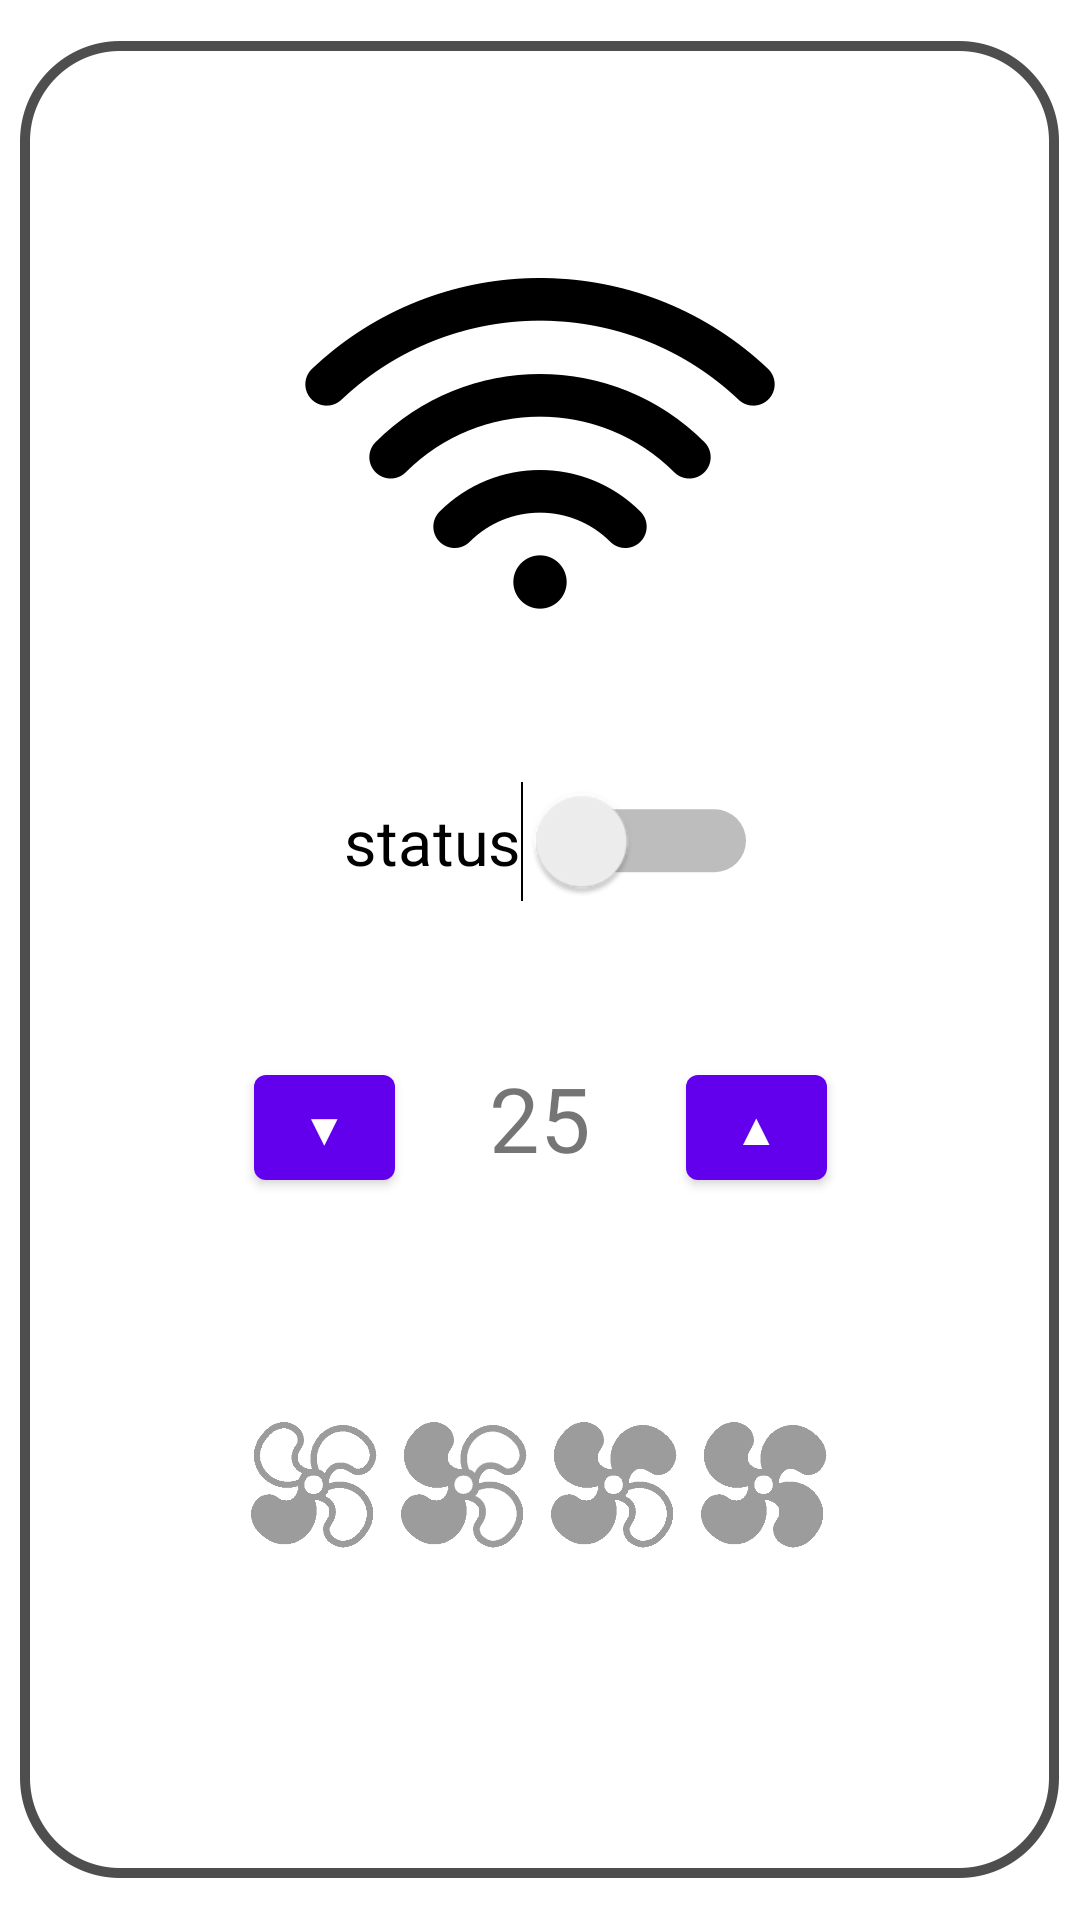

Point at icon controls on the screen. Image size 1080x1920, points as (x,y).
fan level: (314,1485), (464,1485), (614,1485), (764,1485)
